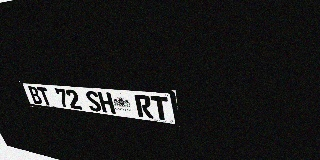plate: (19, 81, 180, 127)
